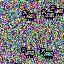sheep: (22, 10, 36, 21), (41, 9, 55, 20), (50, 5, 64, 16), (21, 47, 35, 58), (40, 48, 54, 59)
